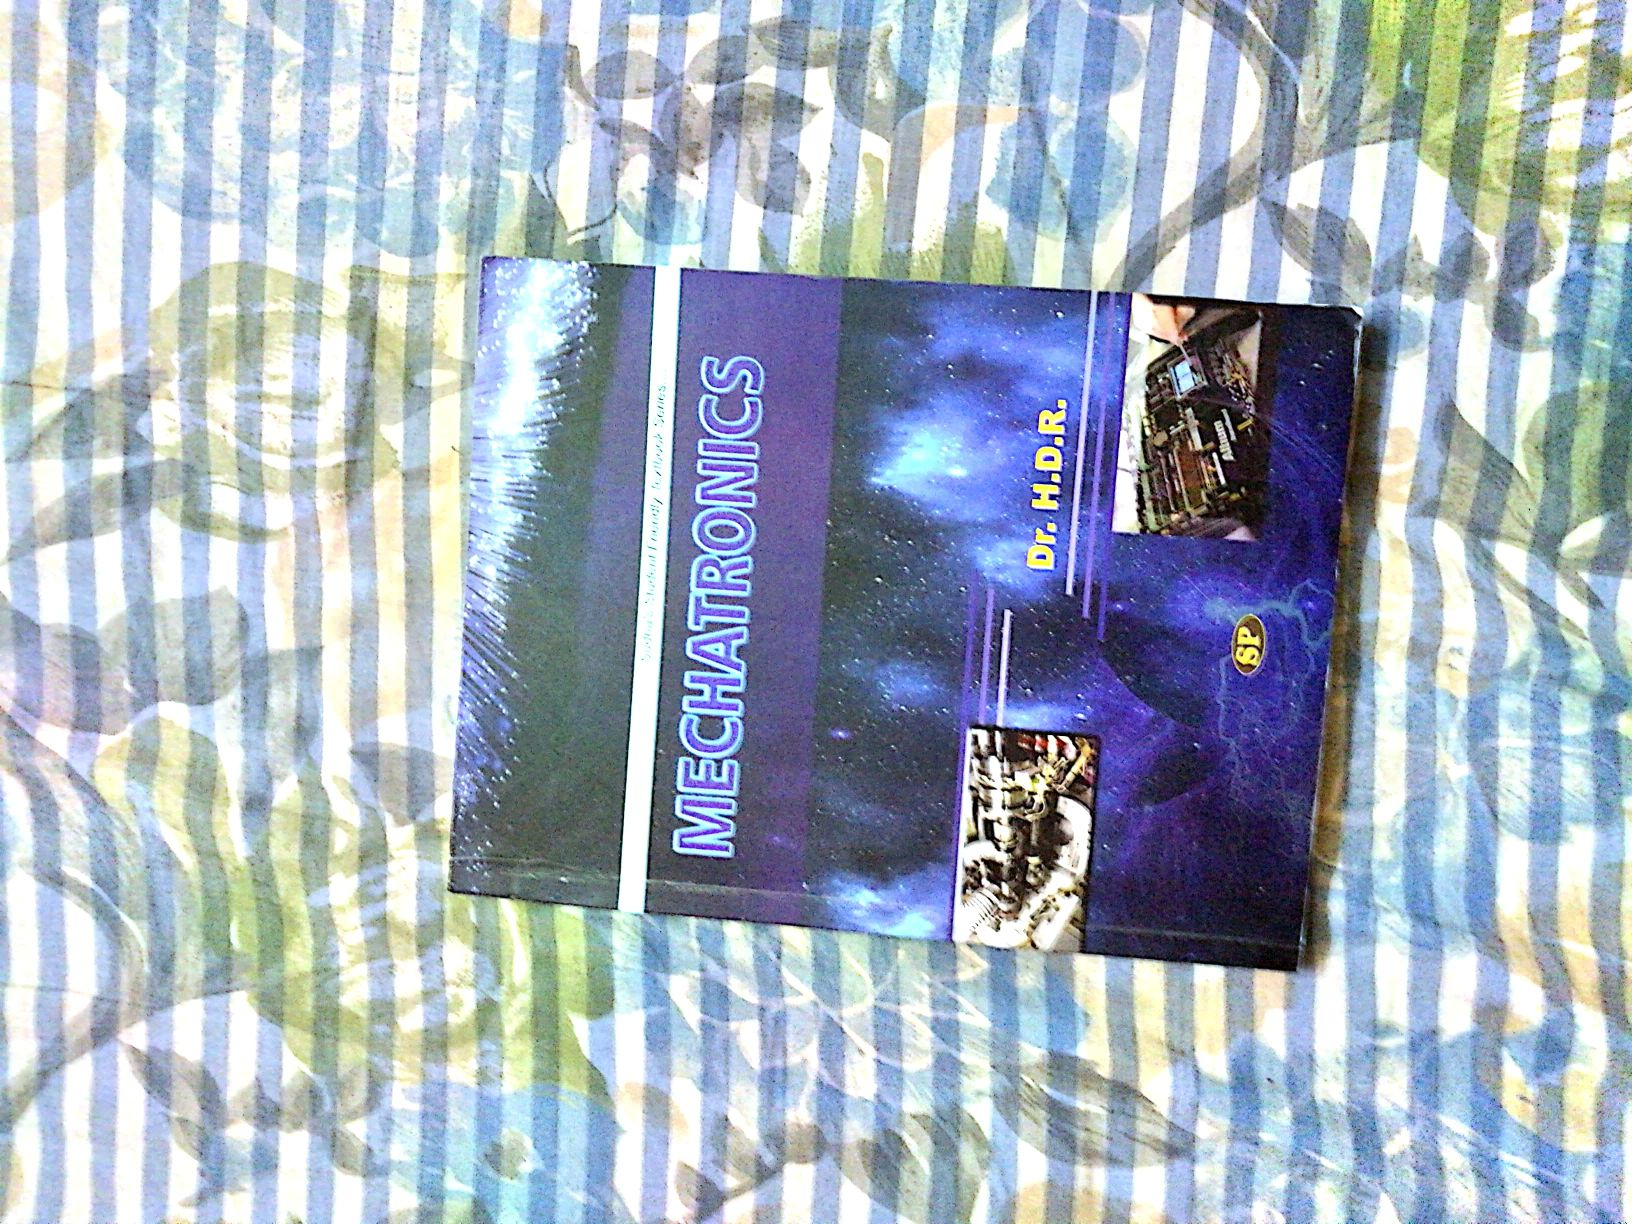mechatronics: (436, 237, 1361, 982)
